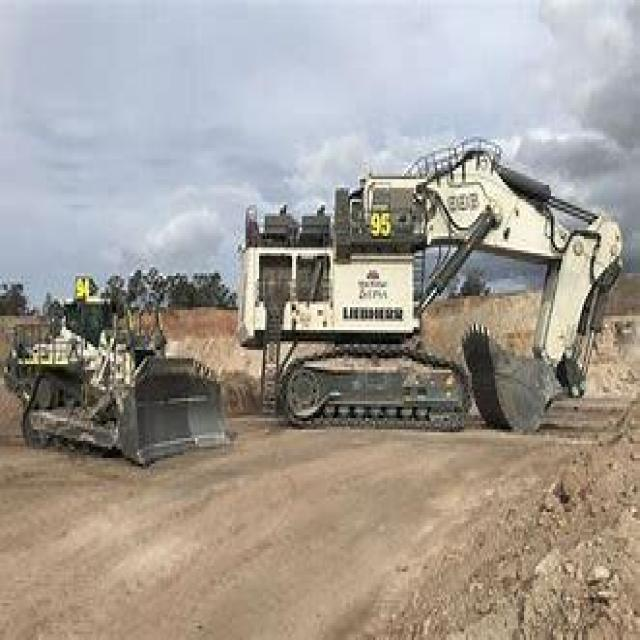Bulldozer: (8, 264, 238, 478)
Excavator: (240, 111, 634, 492)
